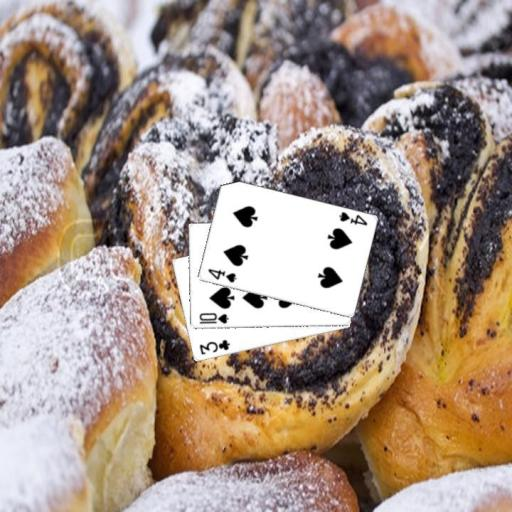10S: (196, 310, 230, 326)
3C: (196, 337, 231, 357)
4S: (336, 209, 368, 228), (205, 266, 237, 284)
